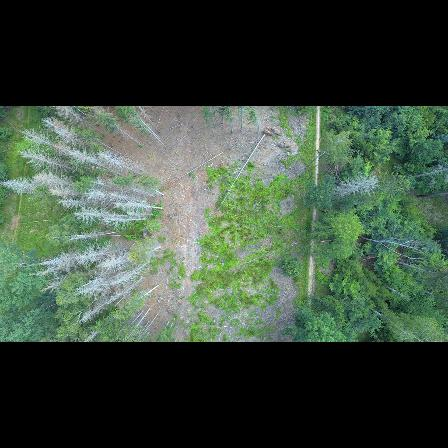Dead: (338, 168, 381, 200), (75, 296, 115, 326), (24, 130, 73, 154), (26, 167, 73, 191), (42, 116, 86, 141), (112, 195, 162, 216), (21, 151, 65, 174), (100, 153, 140, 178), (84, 190, 138, 204), (62, 228, 114, 242), (2, 175, 34, 197), (70, 247, 111, 263), (91, 255, 131, 271), (30, 254, 82, 266), (57, 134, 92, 150), (46, 186, 78, 203), (104, 217, 148, 229), (74, 208, 108, 222), (77, 278, 112, 291), (37, 274, 69, 287), (104, 270, 133, 284), (59, 197, 87, 210)
